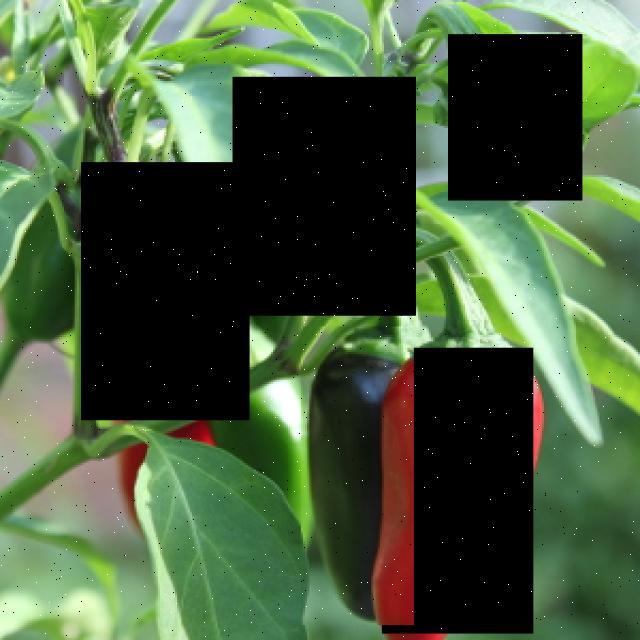Chili_Pepper: (234, 77, 417, 316), (82, 164, 250, 422), (384, 349, 536, 634), (302, 327, 416, 625), (448, 35, 583, 202)
